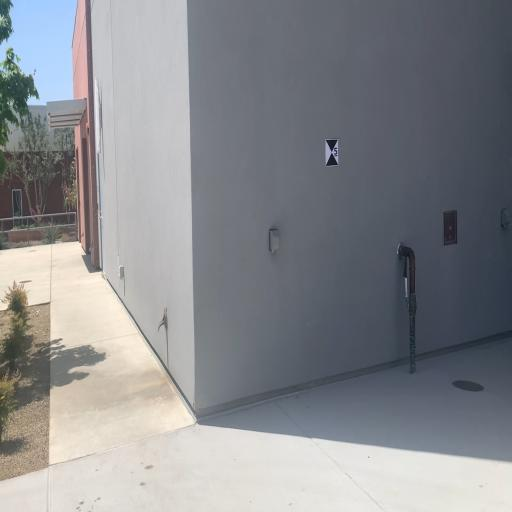target5: (325, 139, 339, 167)
